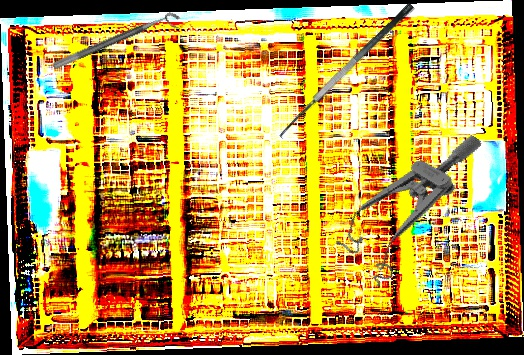Fixation Ring: (51, 9, 185, 80)
Spatula Surgical: (272, 1, 426, 147)
Speculum: (327, 103, 483, 296)
